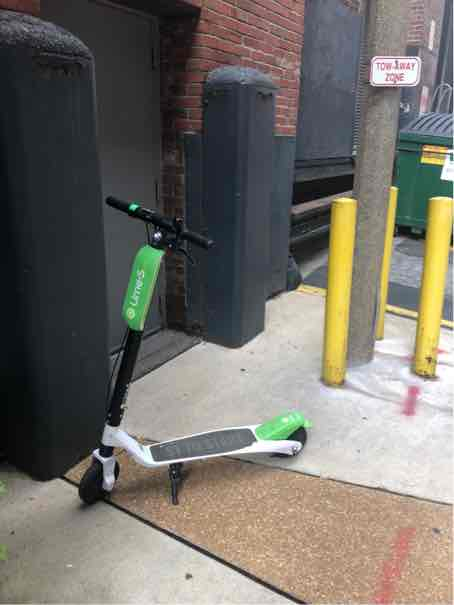scooter: (57, 184, 323, 515)
